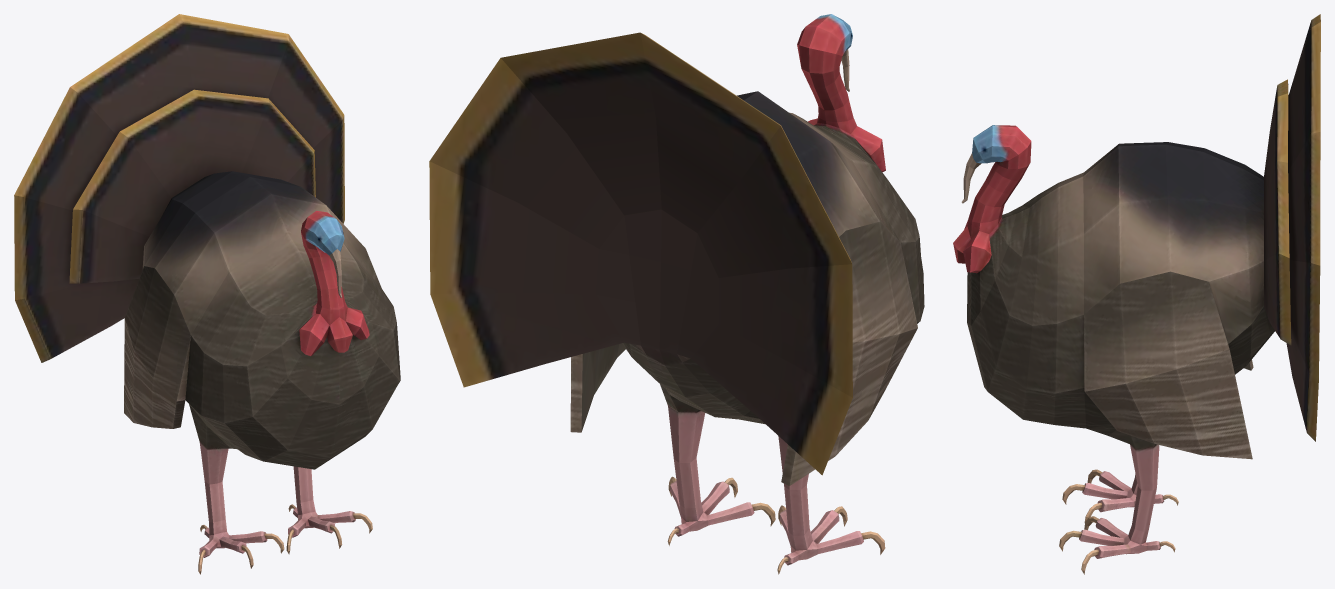
Rendered from 4f31_AG9Iap.glb.
3 renders of one model, left to right at view 1: azimuth 30°, elevation 25°; view 2: azimuth 150°, elevation 25°; view 3: azimuth 270°, elevation 25°, orthographic. The views are drawn at different scales.
Parts seen in each view (by area): view 1: Turkey_mesh; view 2: Turkey_mesh; view 3: Turkey_mesh.
Boxes of the visible parts, bbox=[...] form: Turkey_mesh: bbox=[14, 14, 400, 574]; Turkey_mesh: bbox=[429, 14, 924, 574]; Turkey_mesh: bbox=[953, 14, 1320, 574].
Size of the model in its own units: 0.7442 by 1 by 0.6516.
1 material, 1 textured.
